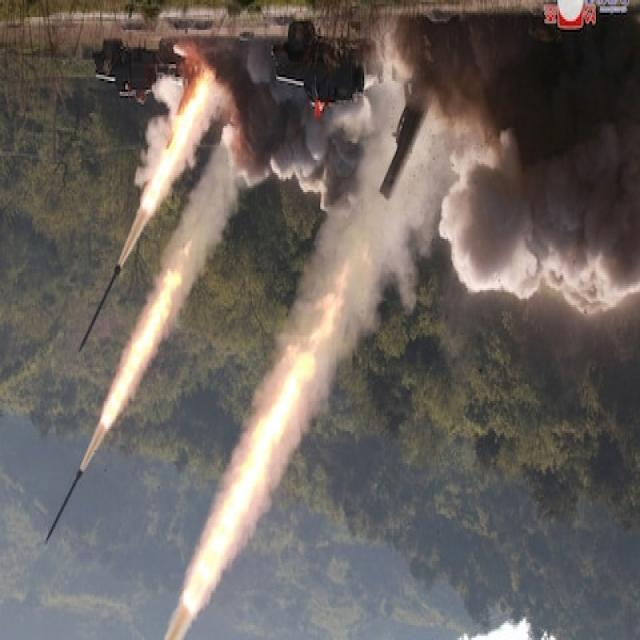Missile: (70, 250, 127, 362), (40, 460, 97, 553)
